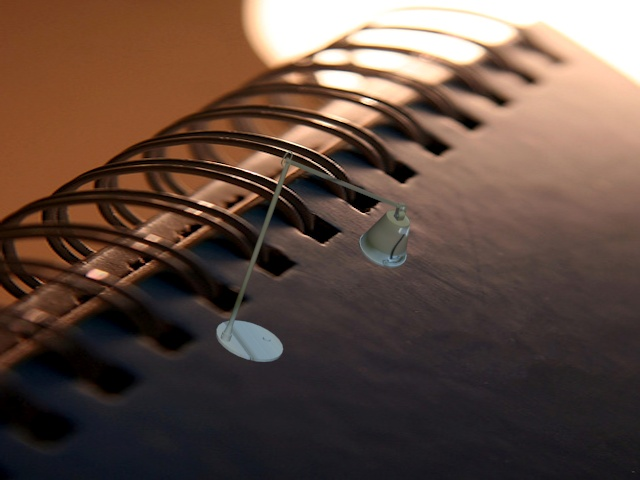desk_lamp: (209, 145, 417, 369)
